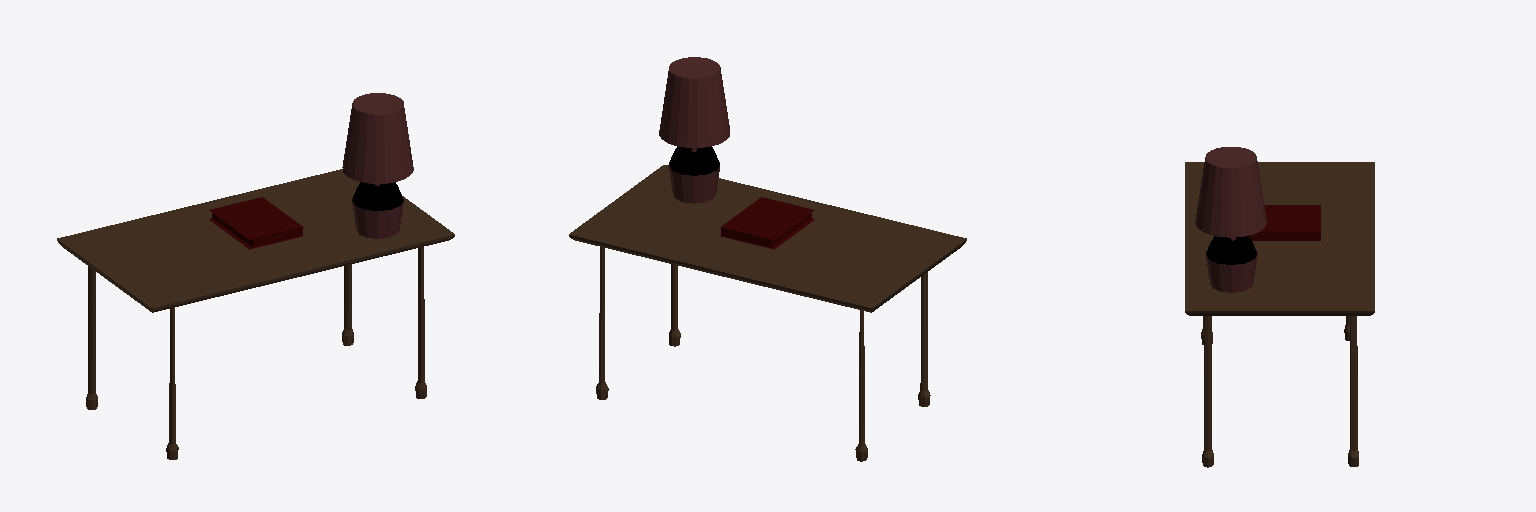
File: Table.obj
The picture shows the model from 3 angles: view 1: azimuth 30°, elevation 25°; view 2: azimuth 150°, elevation 25°; view 3: azimuth 270°, elevation 25°; orthographic projection.
Visible parts, largest first — view 1: pCube1, pCylinder2, leg4, pCube2, pCylinder4, pCylinder1; view 2: pCube1, pCylinder2, leg4, pCube2, pCylinder4, pCylinder1; view 3: pCube1, pCylinder2, leg4, pCube2, pCylinder4, pCylinder1.
Part boxes in pixels (bbox=[...]): pCube1: bbox=[57, 169, 454, 312]; pCylinder2: bbox=[342, 93, 413, 183]; leg4: bbox=[86, 247, 426, 459]; pCube2: bbox=[209, 197, 302, 249]; pCylinder4: bbox=[352, 201, 403, 238]; pCylinder1: bbox=[352, 182, 403, 210]; pCube1: bbox=[569, 165, 966, 312]; pCylinder2: bbox=[659, 57, 729, 147]; leg4: bbox=[596, 247, 930, 461]; pCube2: bbox=[721, 197, 814, 249]; pCylinder4: bbox=[668, 165, 719, 203]; pCylinder1: bbox=[669, 146, 719, 175]; pCube1: bbox=[1185, 162, 1374, 315]; pCylinder2: bbox=[1195, 147, 1266, 237]; leg4: bbox=[1201, 316, 1358, 467]; pCube2: bbox=[1249, 205, 1320, 240]; pCylinder4: bbox=[1206, 254, 1257, 292]; pCylinder1: bbox=[1206, 236, 1256, 264].
Bounding box in the file's own units: 9.75 × 8.98 × 5.3.